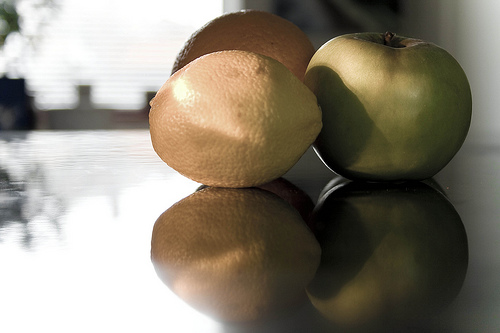apple: (304, 30, 472, 184)
